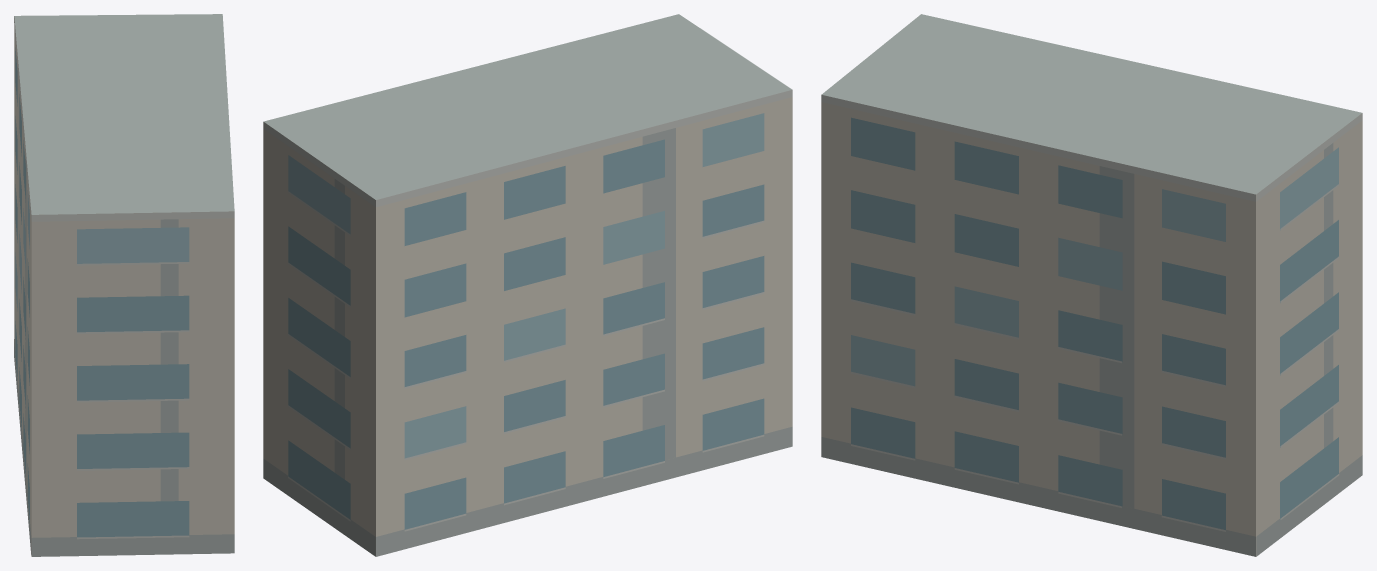
File: survey-upis-32726285.glb
3 views of the same model, side by side, from view 1: azimuth 30°, elevation 25°; view 2: azimuth 150°, elevation 25°; view 3: azimuth 270°, elevation 25° (orthographic). The views are drawn at different scales.
Parts seen in each view (by area): view 1: survey-upis-32726285.tmp; view 2: survey-upis-32726285.tmp; view 3: survey-upis-32726285.tmp.
Part boxes in pixels (<box>): survey-upis-32726285.tmp: <box>14,14,234,556</box>; survey-upis-32726285.tmp: <box>263,14,792,556</box>; survey-upis-32726285.tmp: <box>821,14,1362,556</box>.
Bounding box in the file's own units: 12.94 × 12.1 × 16.39.
